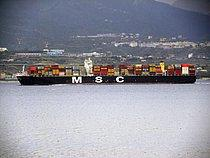Ship: (15, 58, 200, 88)
